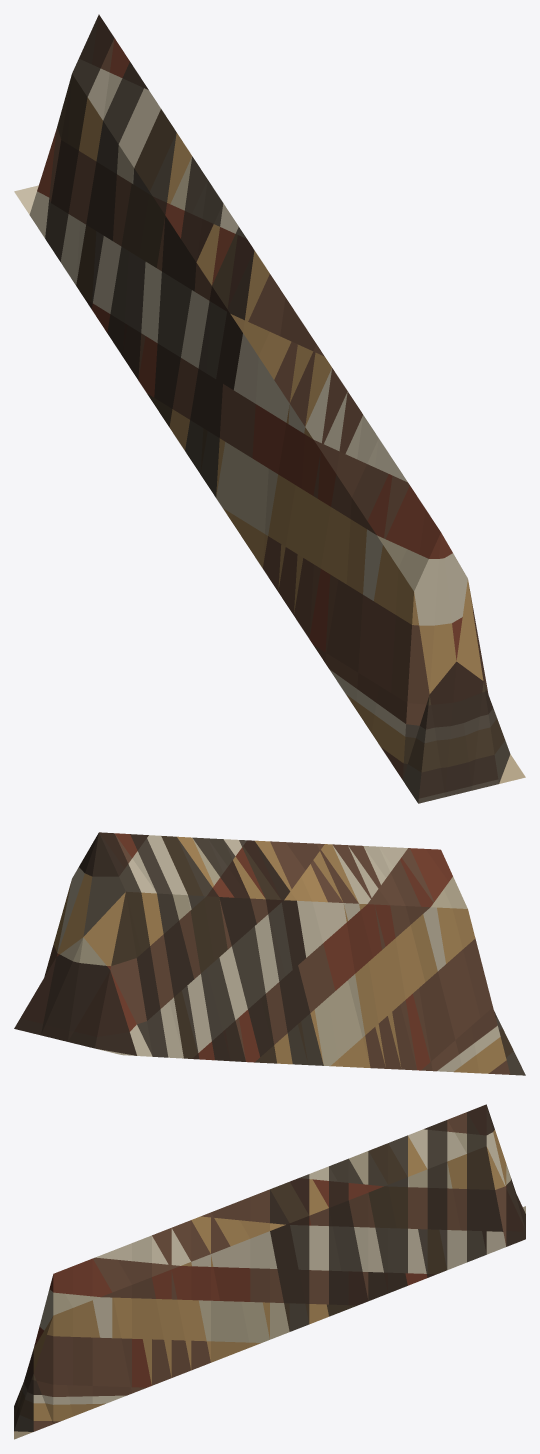
Rendered from dam_eye_chute_west.glb.
3 views of the same model, one above another, from view 1: azimuth 30°, elevation 25°; view 2: azimuth 150°, elevation 25°; view 3: azimuth 270°, elevation 25° (orthographic). The views are drawn at different scales.
Visible parts, largest first — view 1: dam_eye_chute_west; view 2: dam_eye_chute_west; view 3: dam_eye_chute_west.
Part boxes in pixels (x1=…): dam_eye_chute_west: x1=14, y1=14, x2=525, y2=803; dam_eye_chute_west: x1=14, y1=832, x2=525, y2=1075; dam_eye_chute_west: x1=14, y1=1104, x2=525, y2=1439.
Bounding box in the file's own units: 8 × 35.72 × 52.
